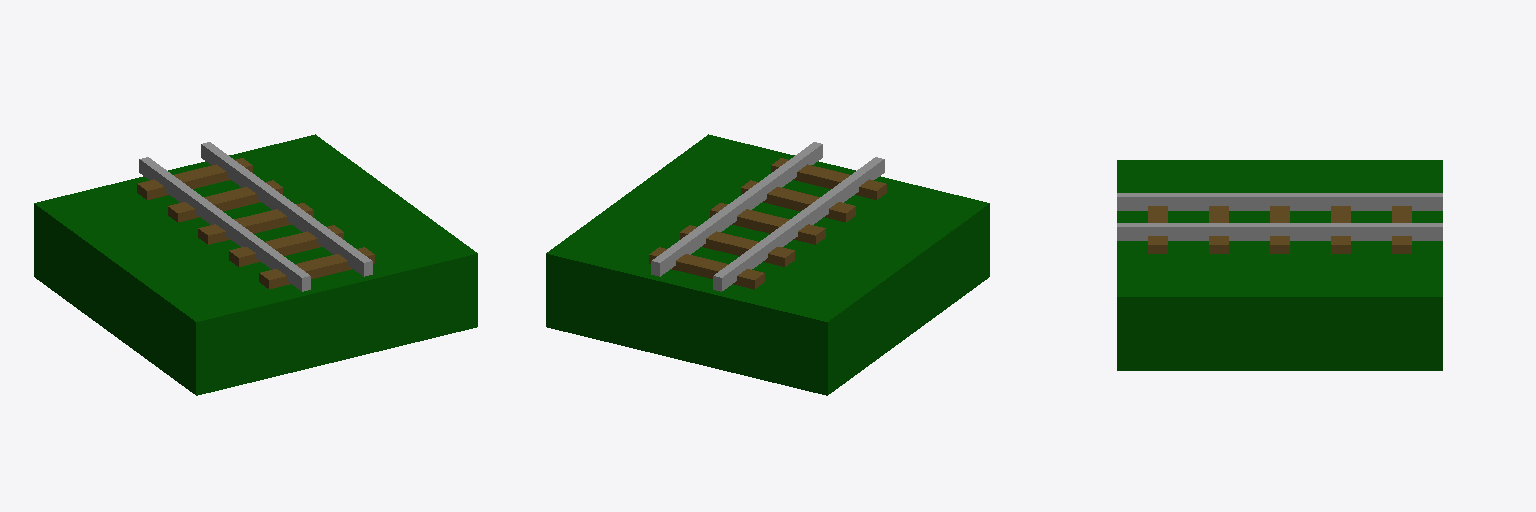
3 views of the same model, side by side, from view 1: azimuth 30°, elevation 25°; view 2: azimuth 150°, elevation 25°; view 3: azimuth 270°, elevation 25° (orthographic).
Visible parts, largest first — view 1: grass, rail, wood; view 2: grass, rail, wood; view 3: grass, rail, wood.
Part boxes in pixels (left/top/right/bottom): grass: left=34, top=134, right=477, bottom=395; rail: left=139, top=142, right=372, bottom=291; wood: left=137, top=158, right=374, bottom=289; grass: left=546, top=134, right=989, bottom=395; rail: left=651, top=142, right=884, bottom=291; wood: left=649, top=158, right=886, bottom=289; grass: left=1117, top=160, right=1442, bottom=370; rail: left=1117, top=193, right=1442, bottom=240; wood: left=1148, top=206, right=1411, bottom=253.
Bounding box in the file's own units: 1 × 0.3125 × 1.
Materials: 3 (3 with a texture image).